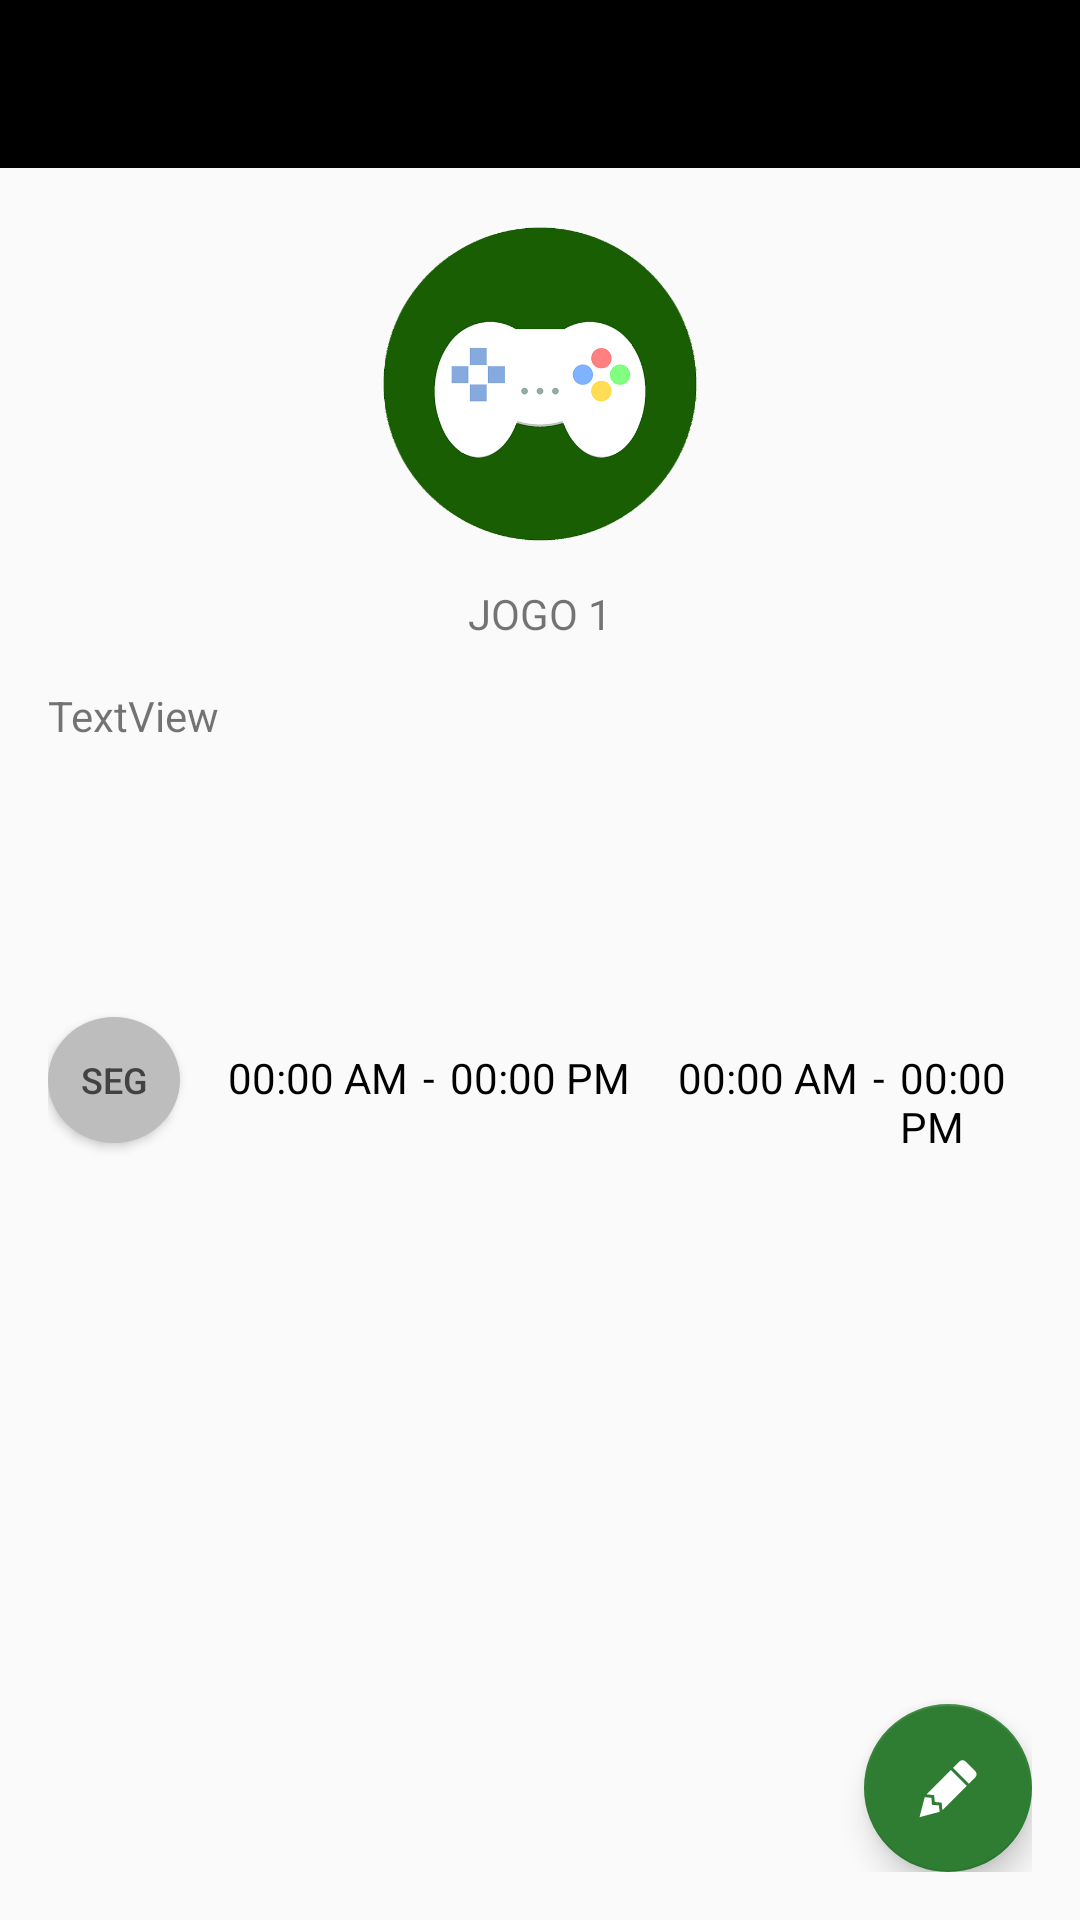

Point at icon controls on the screen. Image size 1080px x 1920px, points as (x=x, y=y).
game sem imagem: (x=540, y=384)
lead pencil: (x=948, y=1788)
